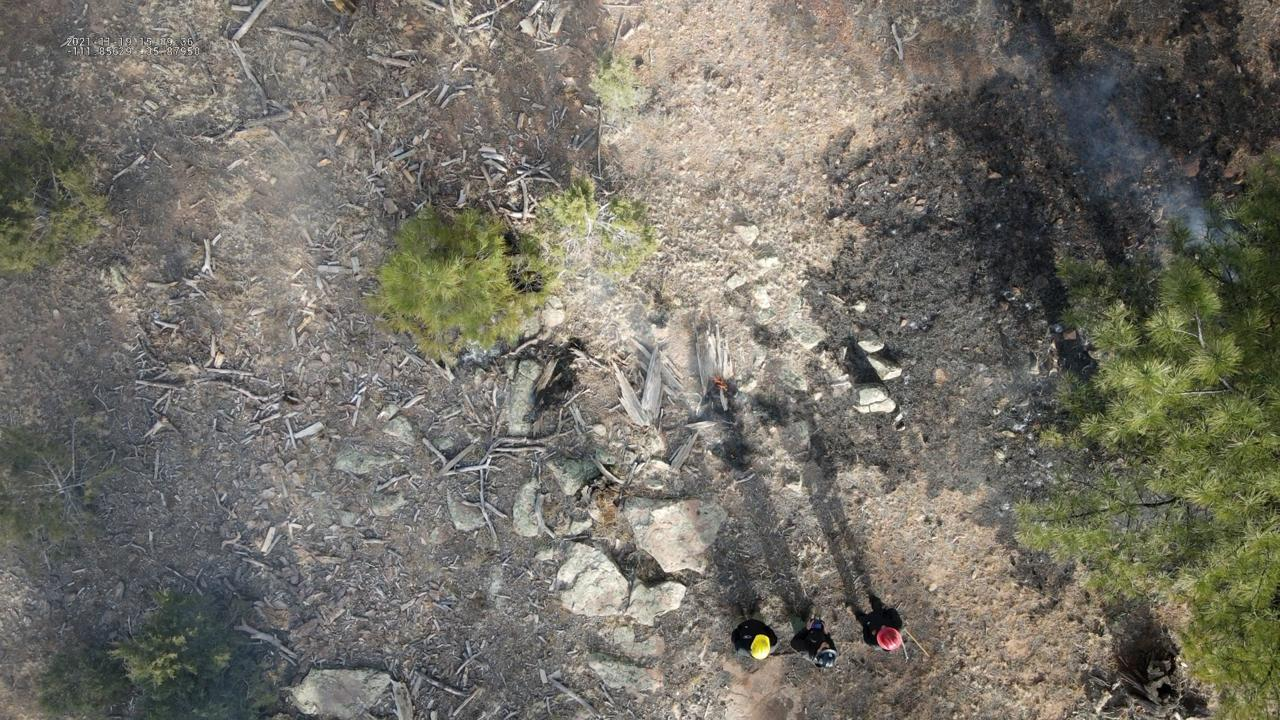fire: (711, 375, 728, 392)
smoke: (1051, 71, 1209, 246)
